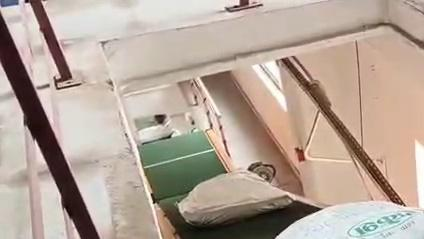box: (178, 170, 293, 226), (274, 201, 424, 239)
